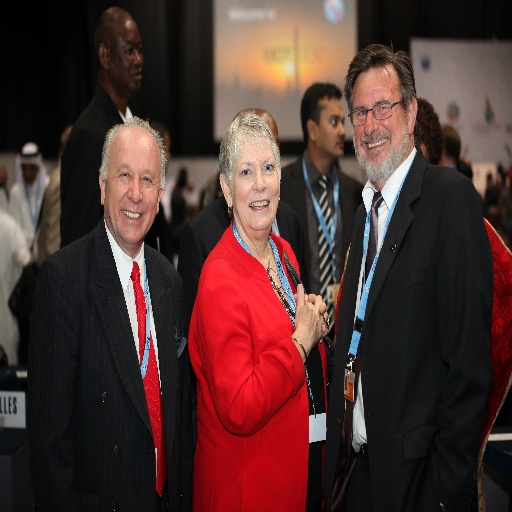hand: (294, 283, 329, 347), (294, 292, 327, 343), (331, 288, 336, 318)
